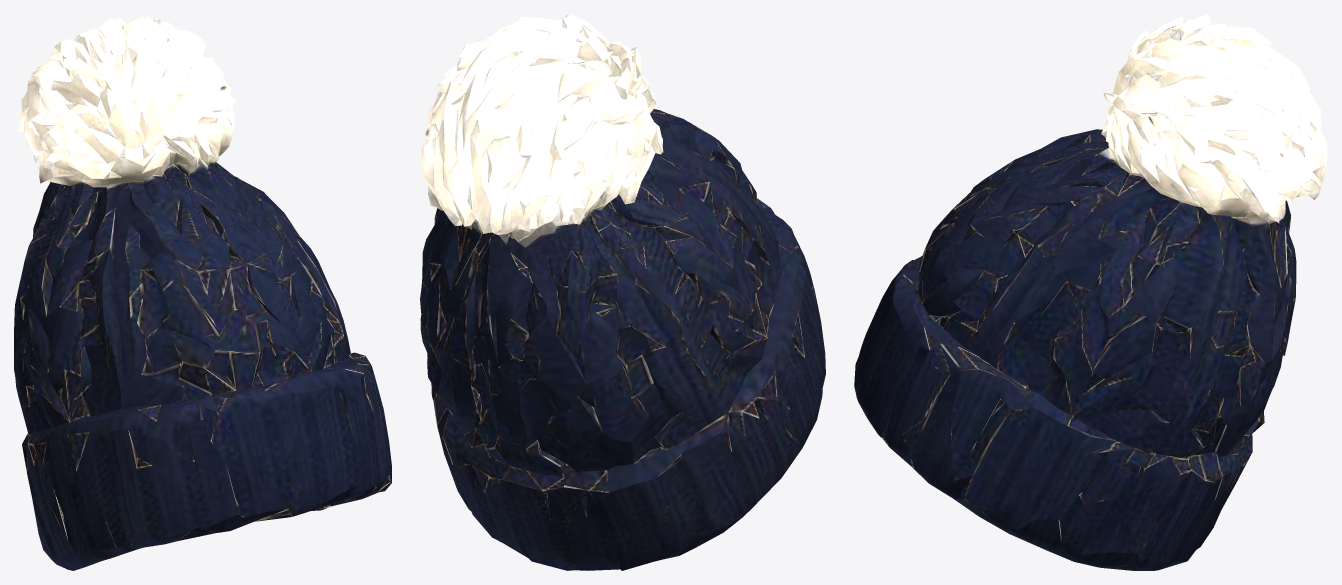
The model's file is acc_beanie.glb.
The picture shows the model from 3 angles, left to right: view 1: azimuth 30°, elevation 25°; view 2: azimuth 150°, elevation 25°; view 3: azimuth 270°, elevation 25°; orthographic projection. The views are drawn at different scales.
Bounding box in the file's own units: 1.14 × 1.84 × 1.52.
1 material, 1 textured.
